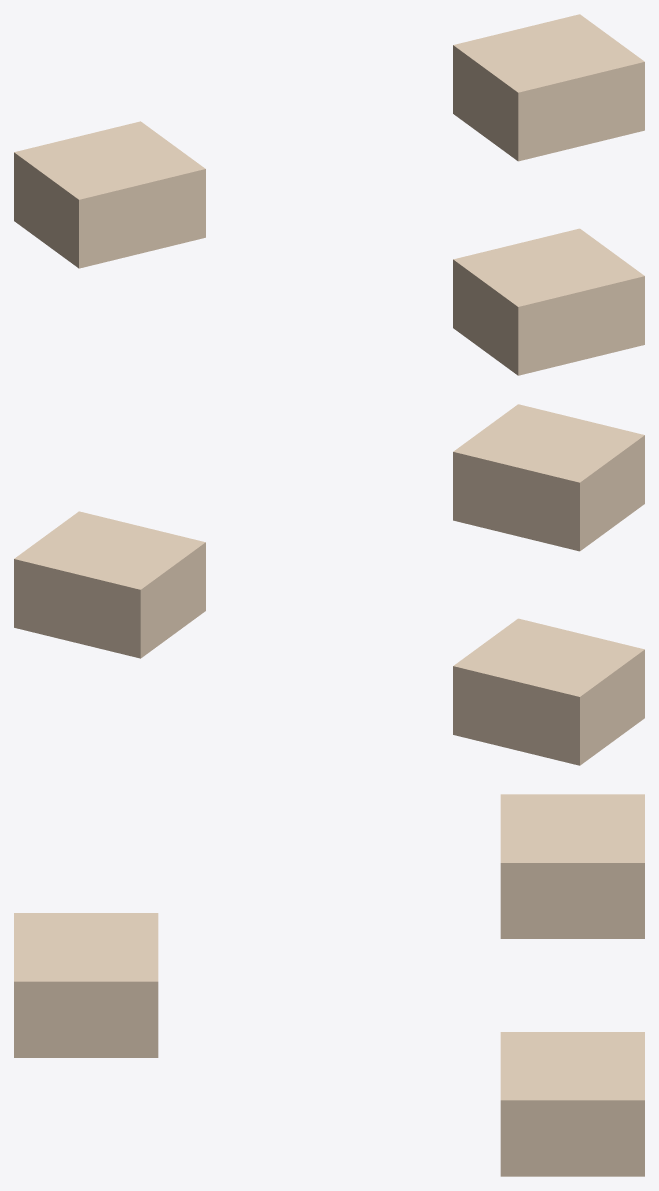
File: orion_cm.parachutes_packed.glb
3 views of the same model, one above another, from view 1: azimuth 30°, elevation 25°; view 2: azimuth 150°, elevation 25°; view 3: azimuth 270°, elevation 25° (orthographic). The views are drawn at different scales.
Parts seen in each view (by area): view 1: orion_cm.parachutes_packed.mesh_Parachute_canopy_fabric; view 2: orion_cm.parachutes_packed.mesh_Parachute_canopy_fabric; view 3: orion_cm.parachutes_packed.mesh_Parachute_canopy_fabric.
Part boxes in pixels (bbox=[...]): orion_cm.parachutes_packed.mesh_Parachute_canopy_fabric: bbox=[14, 14, 644, 375]; orion_cm.parachutes_packed.mesh_Parachute_canopy_fabric: bbox=[14, 404, 644, 765]; orion_cm.parachutes_packed.mesh_Parachute_canopy_fabric: bbox=[14, 794, 644, 1176].
Bounding box in the file's own units: 1.21 × 0.14 × 1.05.
